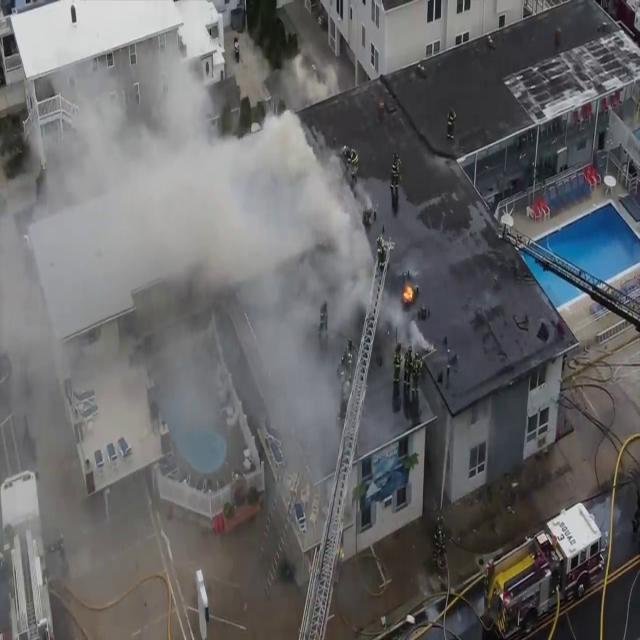Smoke: (9, 29, 380, 318)
